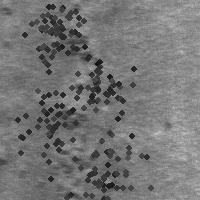rolled-in_scale: (0, 62, 104, 178), (51, 115, 163, 200), (33, 103, 109, 199), (11, 0, 107, 74), (58, 48, 132, 122), (48, 17, 99, 91)
